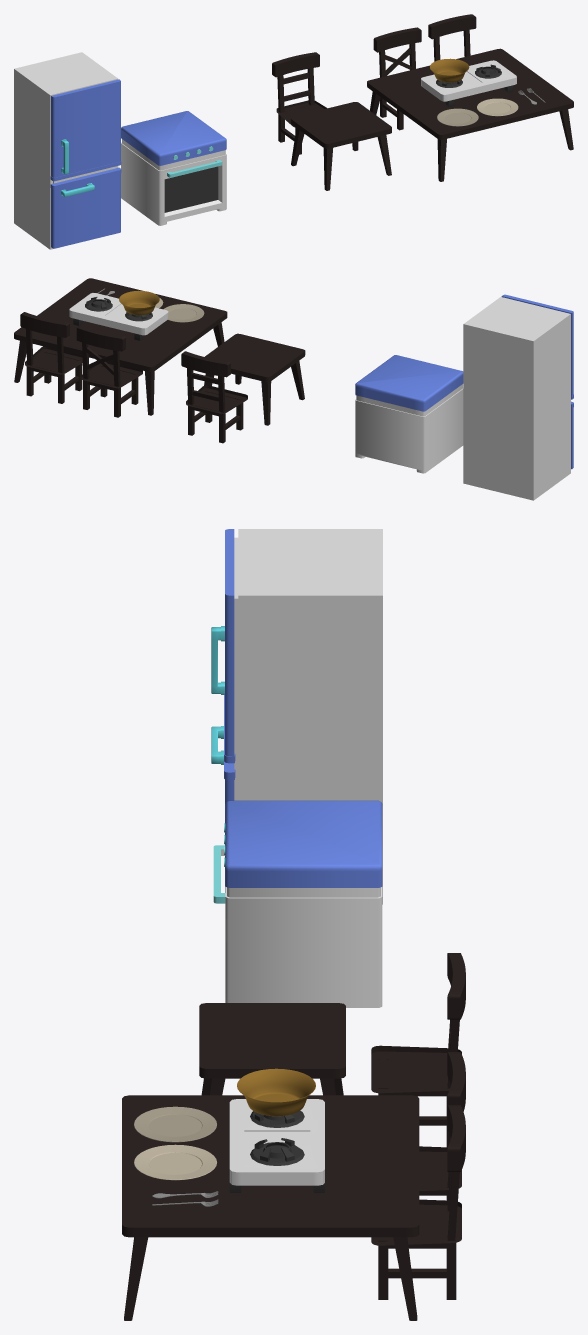
Rendered from Kitchen assets 01.fbx.
The picture shows the model from 3 angles, top to bottom: view 1: azimuth 30°, elevation 25°; view 2: azimuth 150°, elevation 25°; view 3: azimuth 270°, elevation 25°; orthographic projection. The views are drawn at different scales.
Parts seen in each view (by area): view 1: Fridge, Oven, Table large, Table small, Chair.002, Stove 01, Chair.001, Chair, Plate 2.001, Plate diameter 28cm, Plate 2; view 2: Fridge, Oven, Table large, Table small, Chair.002, Chair.001, Chair, Stove 01, Plate 2.001, Plate diameter 28cm; view 3: Fridge, Oven, Table large, Table small, Stove 01, Chair.002, Chair, Plate 2.001, Chair.001, Plate diameter 28cm, Plate 2.
Part boxes in pixels (x1=…): Fridge: x1=14, y1=52, x2=121, y2=249; Oven: x1=121, y1=111, x2=226, y2=225; Table large: x1=367, y1=48, x2=573, y2=181; Table small: x1=290, y1=102, x2=391, y2=190; Chair.002: x1=272, y1=52, x2=326, y2=154; Stove 01: x1=421, y1=60, x2=516, y2=106; Chair.001: x1=373, y1=27, x2=421, y2=130; Chair: x1=428, y1=14, x2=476, y2=61; Plate 2.001: x1=429, y1=58, x2=469, y2=82; Plate diameter 28cm: x1=437, y1=108, x2=478, y2=126; Plate 2: x1=477, y1=98, x2=518, y2=116; Fridge: x1=463, y1=294, x2=573, y2=500; Oven: x1=355, y1=355, x2=463, y2=473; Table large: x1=14, y1=278, x2=227, y2=415; Table small: x1=204, y1=333, x2=305, y2=425; Chair.002: x1=181, y1=351, x2=247, y2=443; Chair.001: x1=76, y1=325, x2=142, y2=417; Chair: x1=20, y1=312, x2=82, y2=403; Stove 01: x1=69, y1=293, x2=168, y2=340; Plate 2.001: x1=119, y1=290, x2=159, y2=315; Plate diameter 28cm: x1=163, y1=304, x2=204, y2=322; Fridge: x1=211, y1=529, x2=382, y2=904; Oven: x1=213, y1=800, x2=382, y2=1007; Table large: x1=122, y1=1095, x2=419, y2=1320; Table small: x1=199, y1=1003, x2=345, y2=1095; Stove 01: x1=229, y1=1099, x2=324, y2=1192; Chair.002: x1=371, y1=953, x2=465, y2=1147; Chair: x1=371, y1=1105, x2=465, y2=1299; Plate 2.001: x1=237, y1=1068, x2=315, y2=1116; Chair.001: x1=419, y1=1052, x2=465, y2=1200; Plate diameter 28cm: x1=134, y1=1106, x2=216, y2=1142; Plate 2: x1=134, y1=1144, x2=216, y2=1180.
Bounding box in the file's own units: 772 × 230 × 231.
